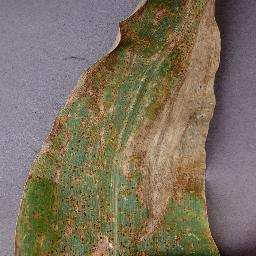Corn_Blight: (13, 1, 234, 255)
